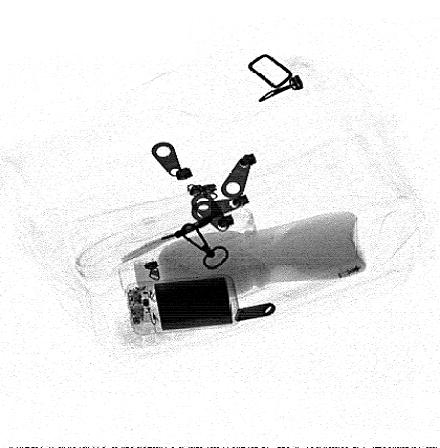Powerbank: (124, 273, 242, 337)
